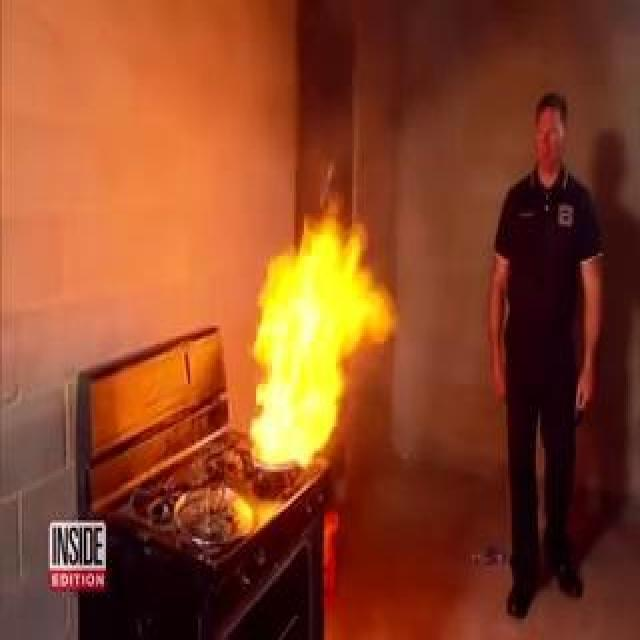Fire: (261, 224, 376, 465)
